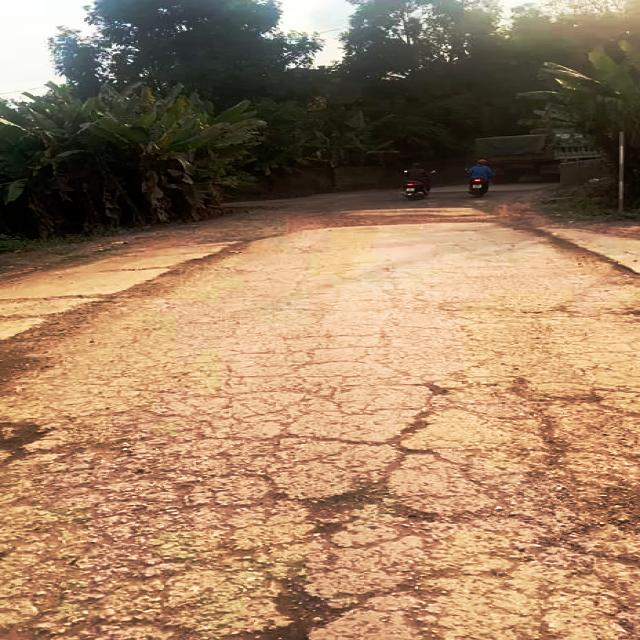pothole: (185, 571, 354, 640), (299, 466, 416, 528)
